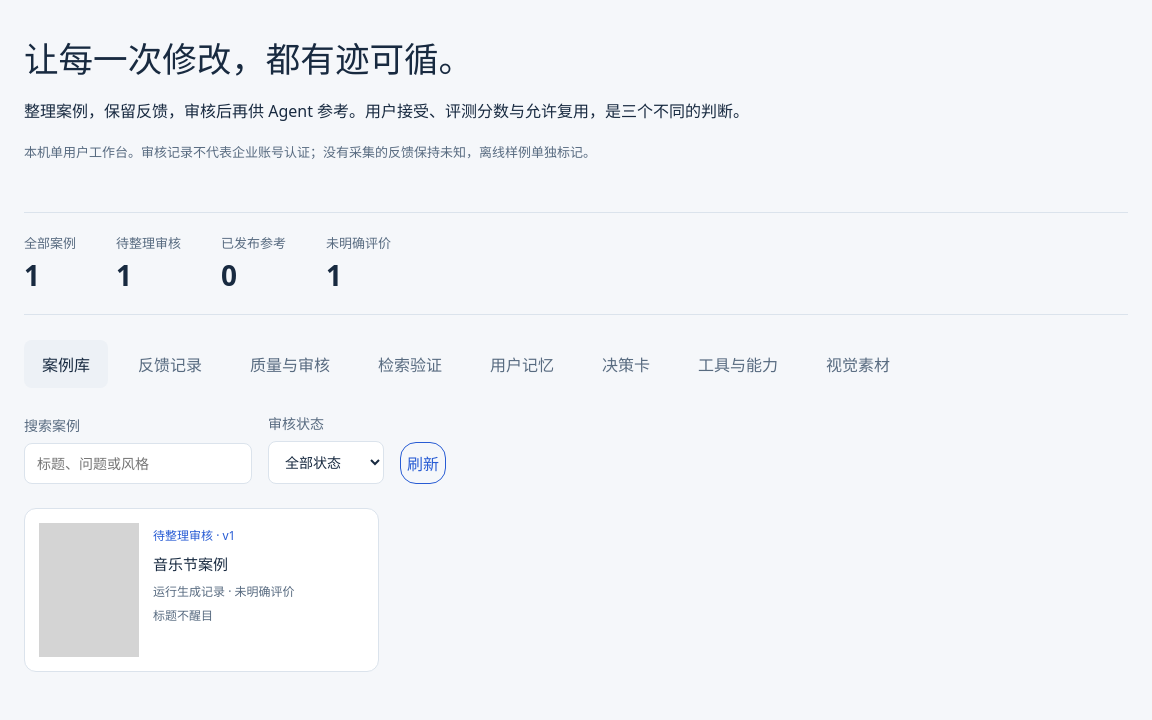
it: PosterHub › reports a conflict without claiming success
(page scrolled)
Click the button with aria-label "查看 音乐节案例" at (201, 590), box [25,509,378,671]
(page scrolled)
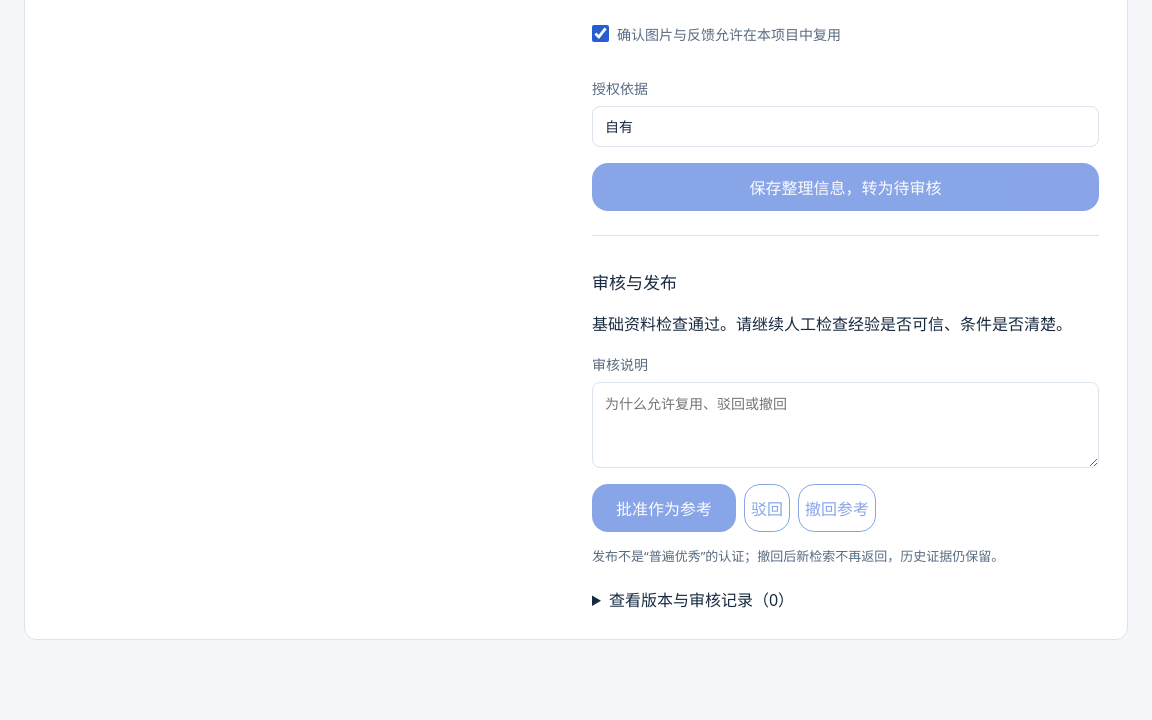
Result: the text "基础资料检查通过。请继续人工检查经验是否可信、条件是否清楚。" is shown at [592,311,1099,338]
Type "审核通过" into the text box labelled "审核说明" at (846, 425), box [592,382,1099,468]
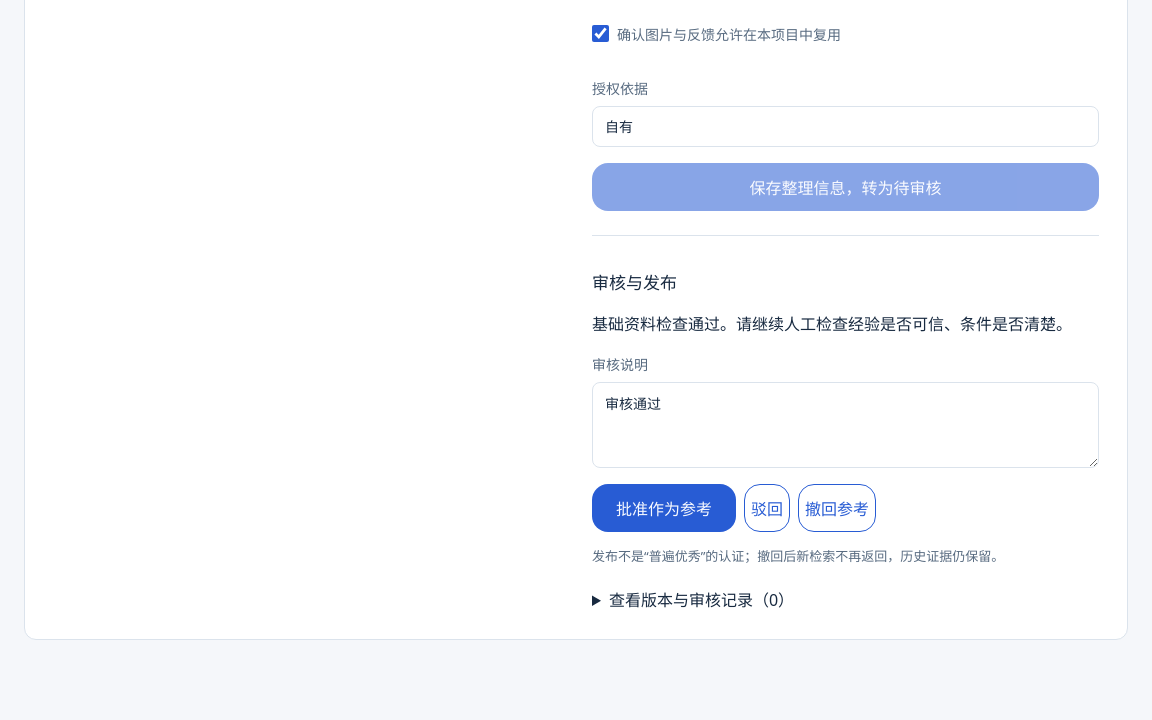
Click the button "批准作为参考" at (664, 508), box [592,484,736,532]
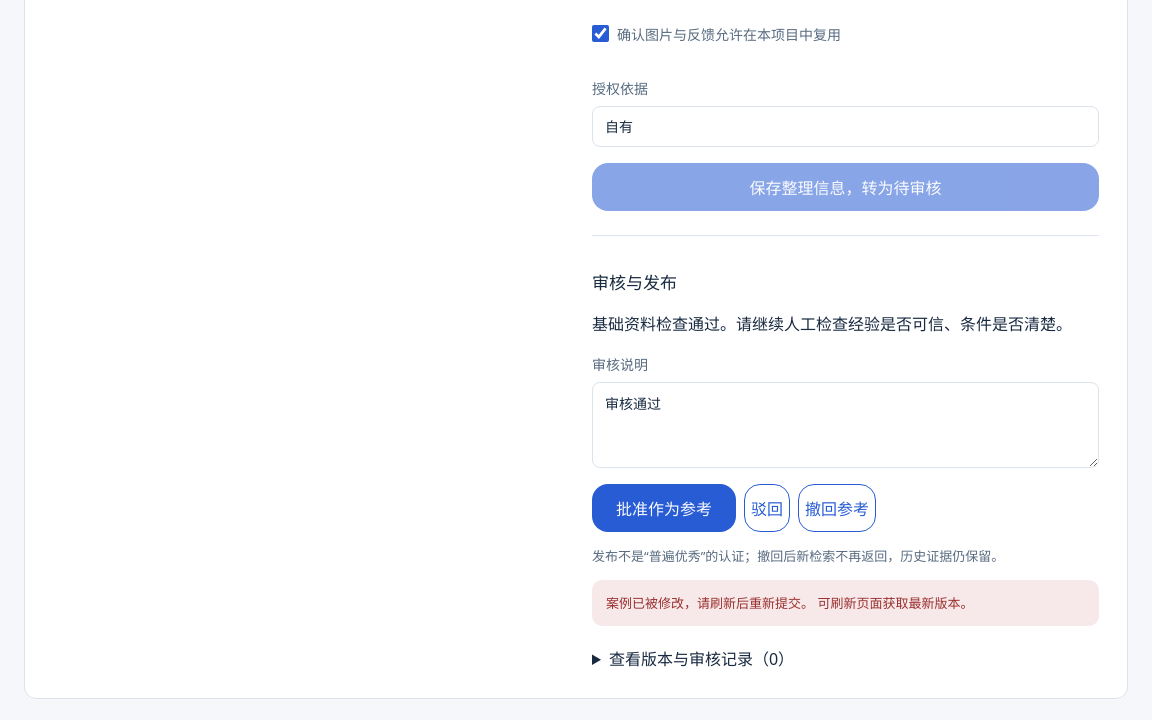
Result: the message shows "案例已被修改" at [606,594,814,612]
